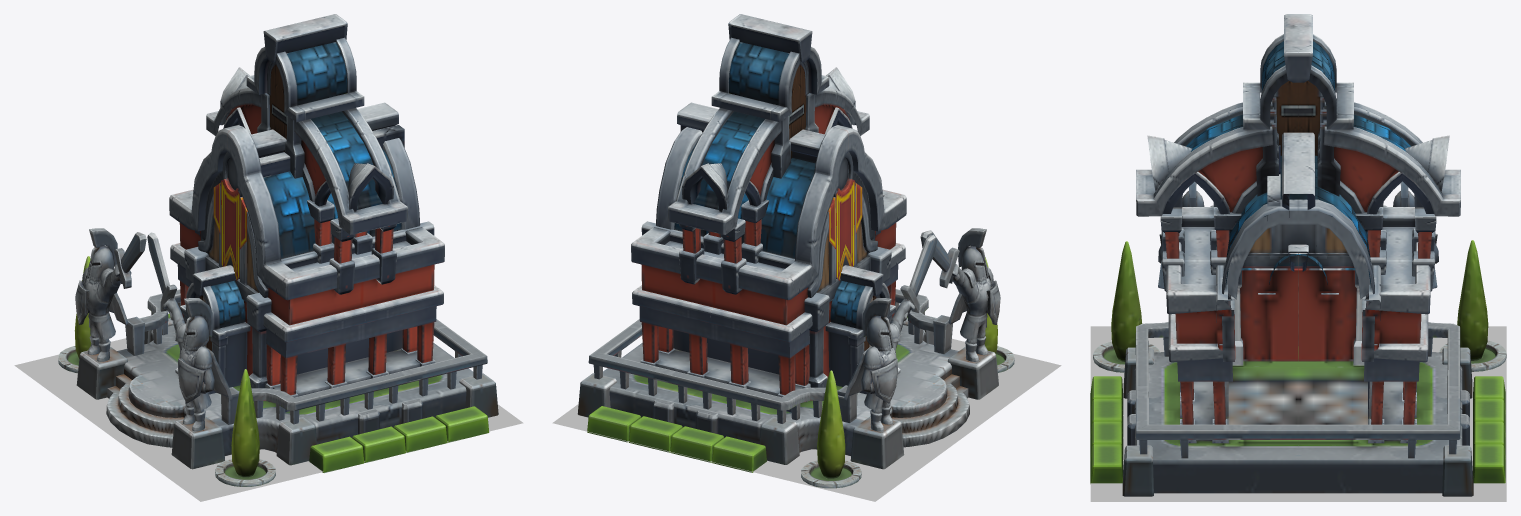
File: C_Academy_LV3.fbx
The picture shows the model from 3 angles, left to right: view 1: azimuth 30°, elevation 25°; view 2: azimuth 150°, elevation 25°; view 3: azimuth 270°, elevation 25°; orthographic projection. The views are drawn at different scales.
Visible parts, largest first — view 1: C_Academy_LV3_0_mesh, C_Academy_LV3_1_mesh; view 2: C_Academy_LV3_0_mesh, C_Academy_LV3_1_mesh; view 3: C_Academy_LV3_0_mesh, C_Academy_LV3_1_mesh.
Boxes of the visible parts, x1,y1,x2,y2 form: C_Academy_LV3_0_mesh: [58, 14, 498, 486]; C_Academy_LV3_1_mesh: [14, 338, 523, 501]; C_Academy_LV3_0_mesh: [577, 14, 1014, 488]; C_Academy_LV3_1_mesh: [552, 338, 1061, 501]; C_Academy_LV3_0_mesh: [1090, 14, 1506, 496]; C_Academy_LV3_1_mesh: [1090, 326, 1506, 501].
Bounding box in the file's own units: 120 × 128 × 120.
